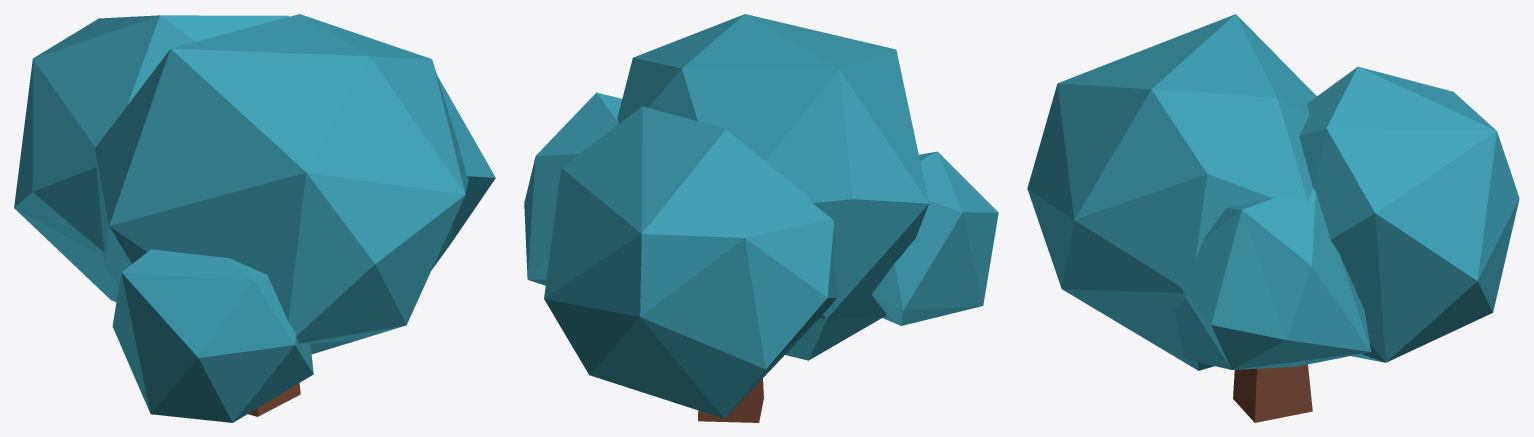
File: Bush_6_summer_blue_vc.fbx
The picture shows the model from 3 angles, left to right: view 1: azimuth 30°, elevation 25°; view 2: azimuth 150°, elevation 25°; view 3: azimuth 270°, elevation 25°; orthographic projection. The views are drawn at different scales.
Visible parts, largest first — view 1: Bush_6_summer_blue_vc; view 2: Bush_6_summer_blue_vc; view 3: Bush_6_summer_blue_vc.
Part boxes in pixels (x1=…): Bush_6_summer_blue_vc: x1=14, y1=14, x2=495, y2=422; Bush_6_summer_blue_vc: x1=524, y1=14, x2=998, y2=422; Bush_6_summer_blue_vc: x1=1027, y1=14, x2=1519, y2=422.
Bounding box in the file's own units: 30.85 × 27.54 × 35.35.
